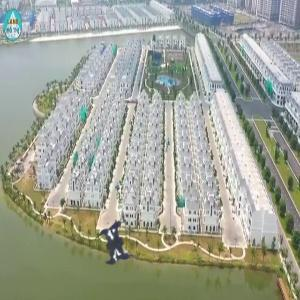drone: (67, 191, 172, 296)
